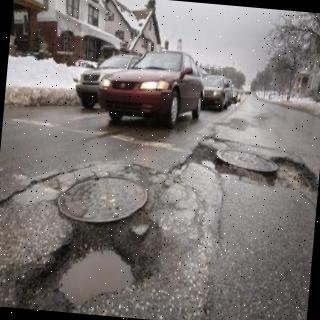pothole: (14, 207, 162, 313), (184, 139, 318, 195)
